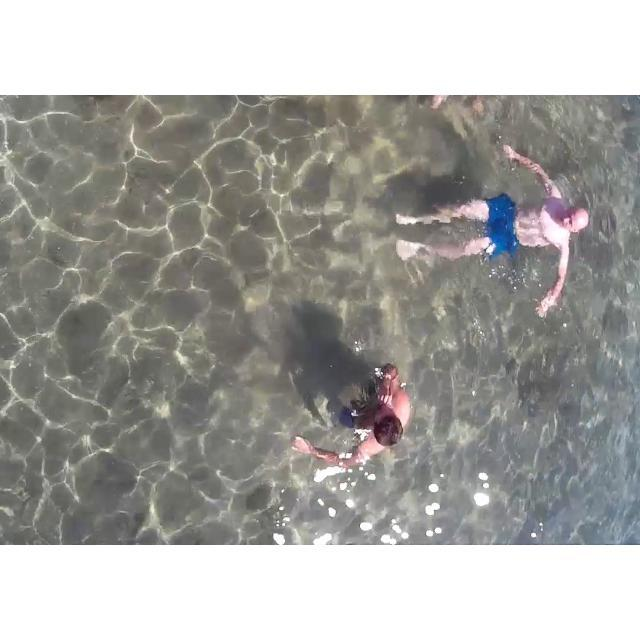human: (399, 126, 587, 324), (301, 338, 418, 478), (387, 95, 487, 119)
